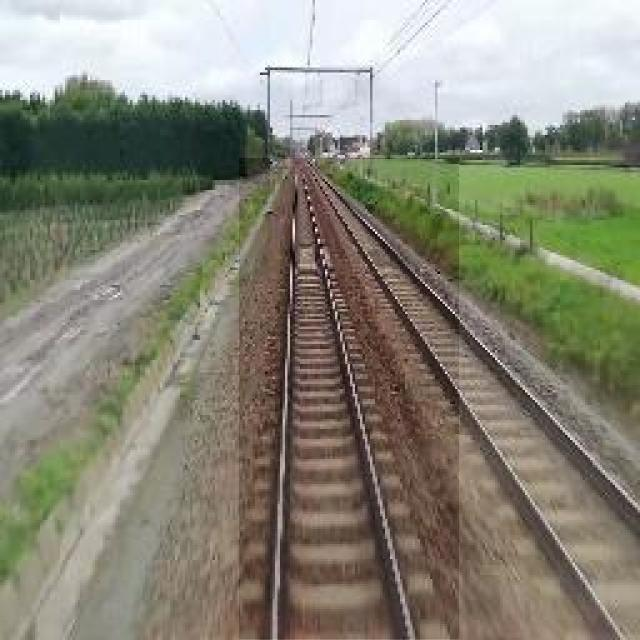rail: (240, 159, 459, 640)
